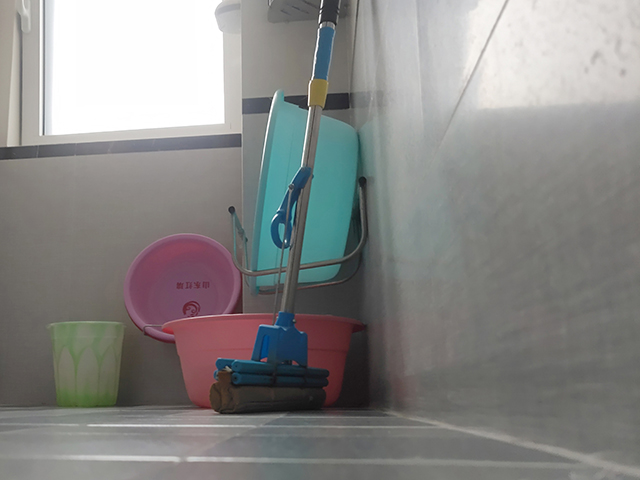trashcan: (44, 319, 128, 410)
